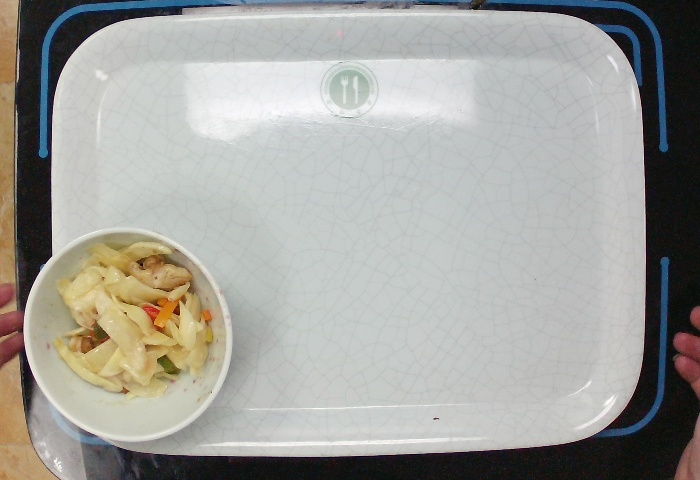JYsf-Fan_Wan: (13, 217, 244, 448)
